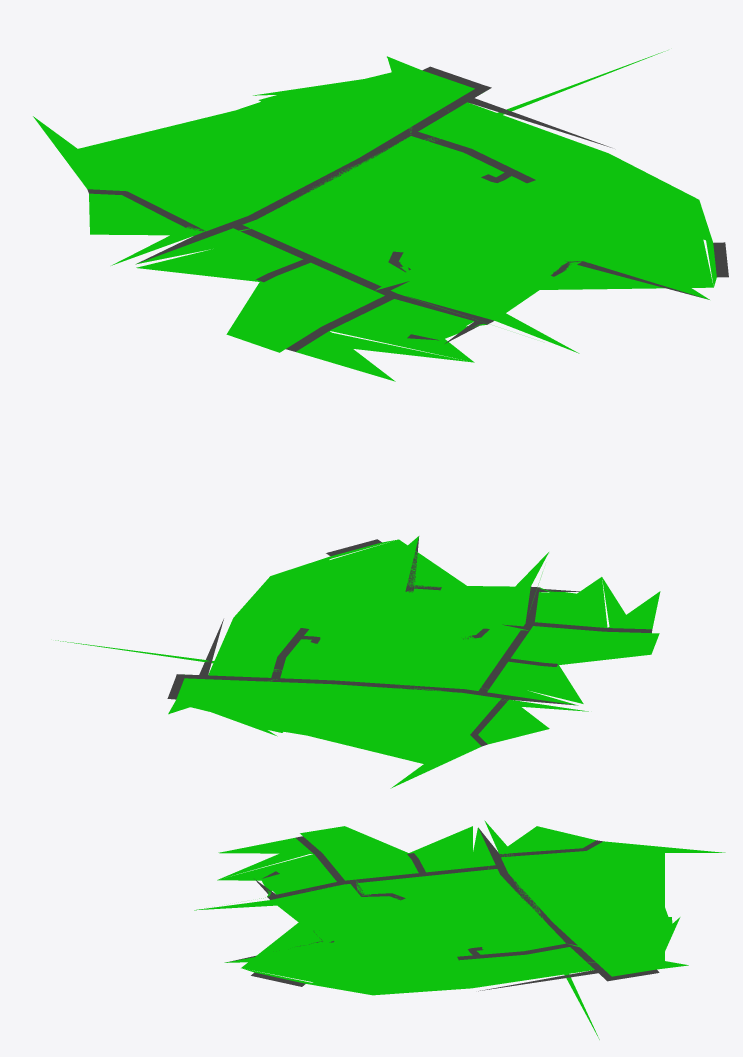
The picture shows the model from 3 angles, top to bottom: view 1: azimuth 30°, elevation 25°; view 2: azimuth 150°, elevation 25°; view 3: azimuth 270°, elevation 25°; orthographic projection. The views are drawn at different scales.
Bounding box in the file's own units: 250 × 0 × 335.
